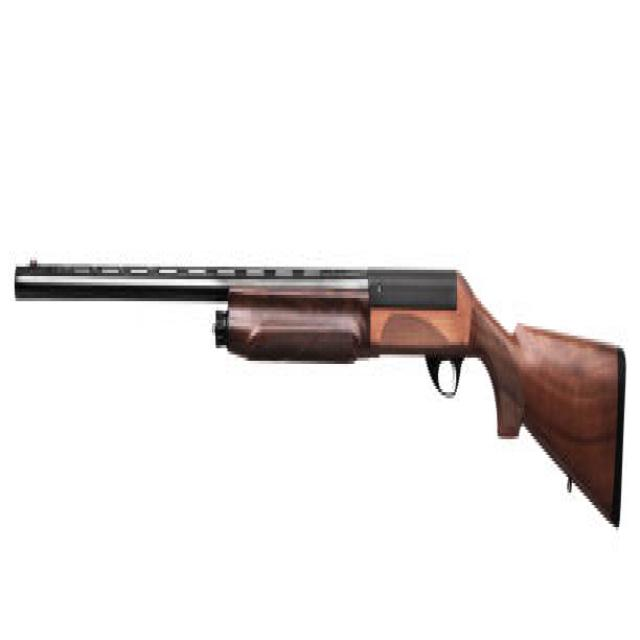rifle: (13, 255, 632, 536)
